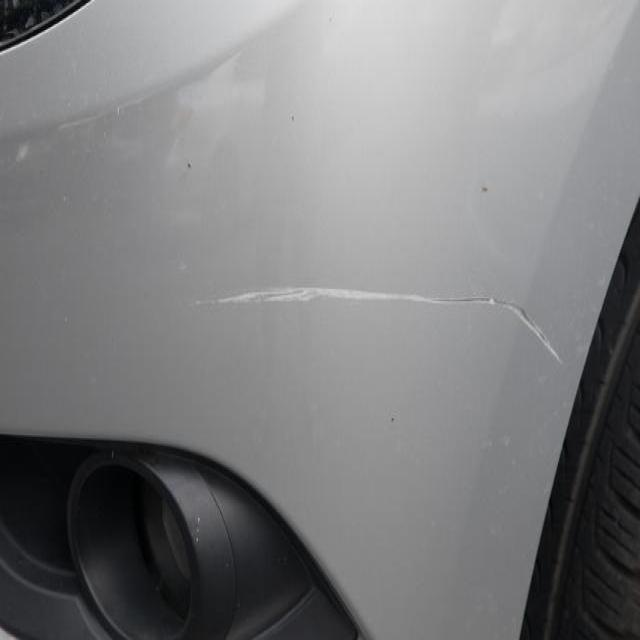Dent: (9, 244, 587, 384), (472, 294, 561, 360), (56, 93, 136, 140), (7, 118, 71, 173), (196, 283, 332, 306), (160, 96, 200, 169), (486, 3, 537, 53), (591, 532, 637, 578), (472, 420, 520, 462), (610, 473, 640, 519), (418, 290, 494, 306), (15, 142, 29, 162), (192, 512, 201, 542), (480, 435, 493, 449), (538, 369, 549, 384), (192, 297, 208, 307), (502, 431, 511, 444), (176, 259, 185, 270), (598, 274, 606, 286), (480, 185, 487, 191), (110, 449, 114, 458), (116, 104, 120, 113), (390, 416, 394, 422), (186, 161, 190, 166), (290, 114, 294, 119)
